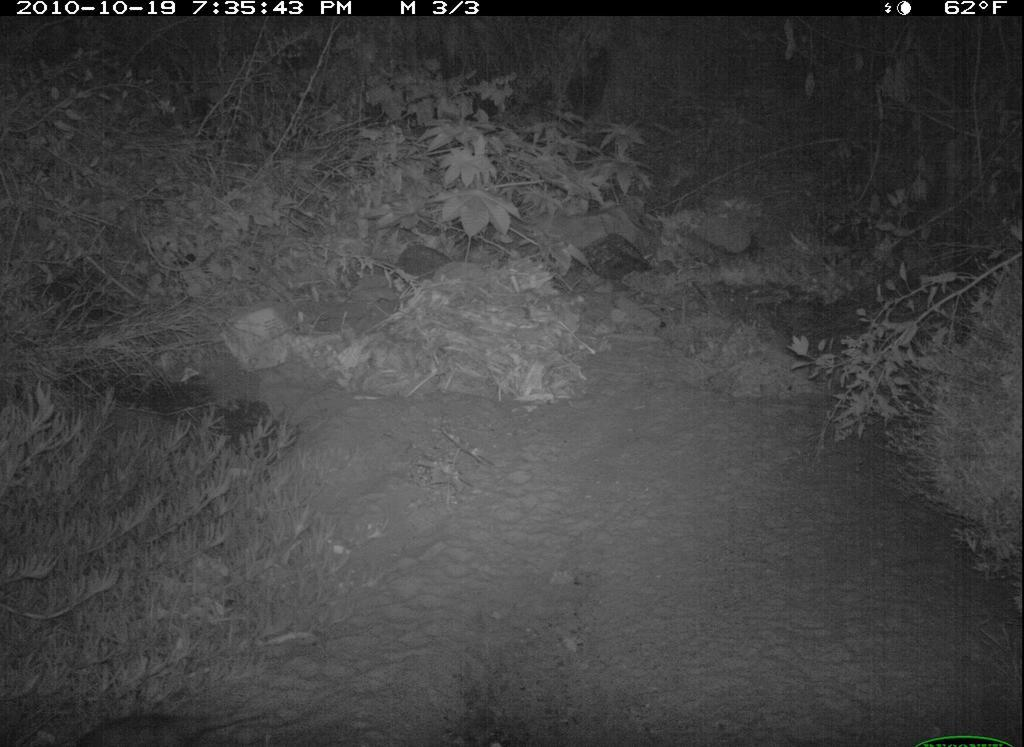opossum: (67, 697, 278, 747)
